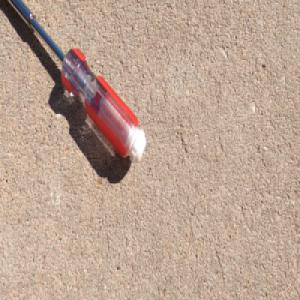Screwdriver: (5, 0, 147, 166)
